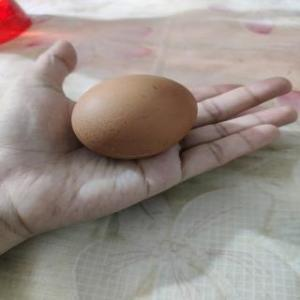egg: (69, 73, 202, 161)
